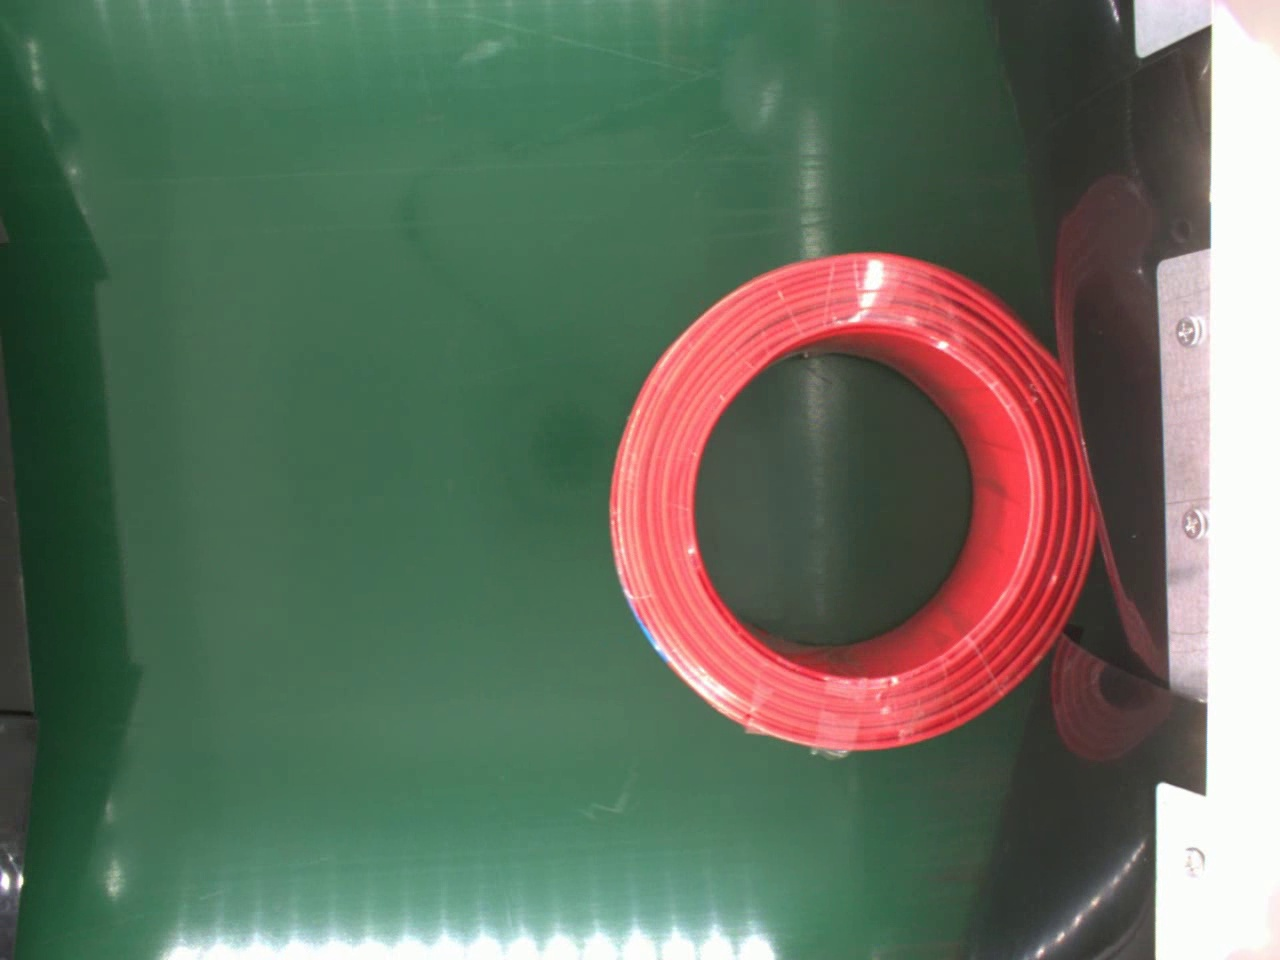red: (605, 248, 1096, 761)
